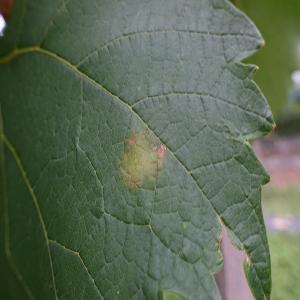Folha: (0, 0, 276, 299)
Fungo: (118, 128, 165, 189)
